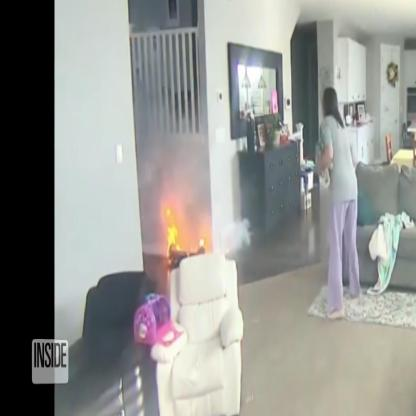fire: (166, 208, 182, 259), (198, 238, 205, 249)
